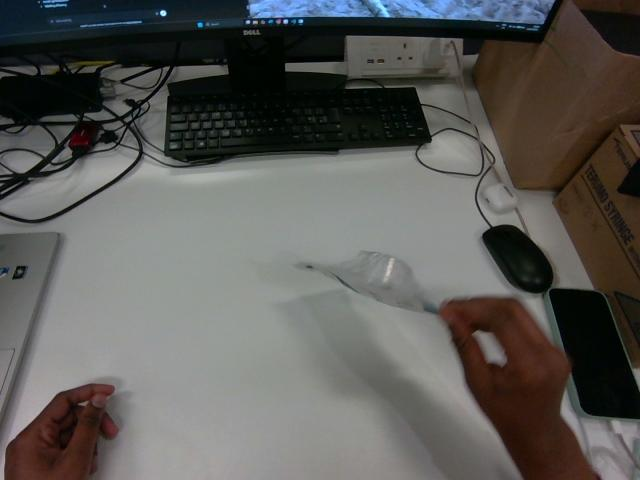gallipot: (298, 251, 438, 312)
